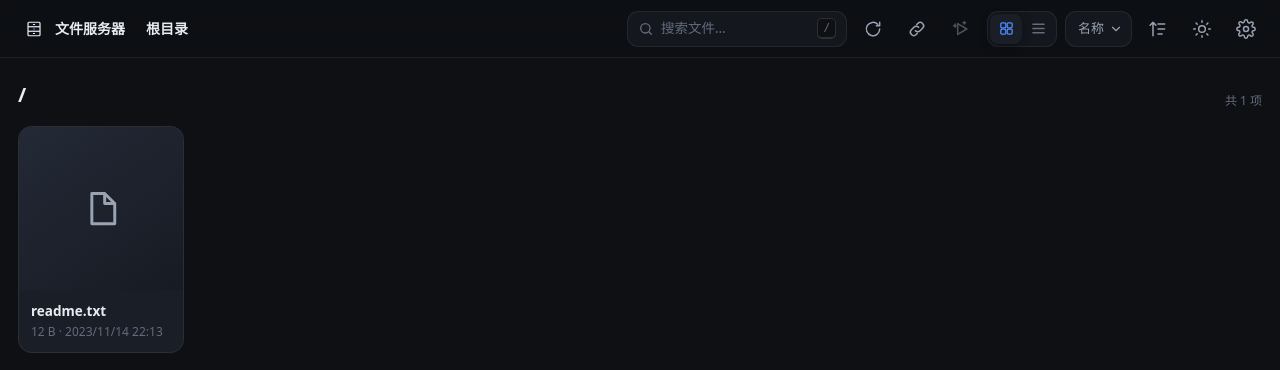
Scenario: BrowsePage › 搜索 250ms 防抖后请求 /api/search 并高亮命中
Check: the element with test id "grid" is shown, box x1=18 y1=126 x2=184 y2=353
Type "mp4" into the field labelled "搜索文件" at (736, 29), box x1=661 y1=18 x2=810 y2=39
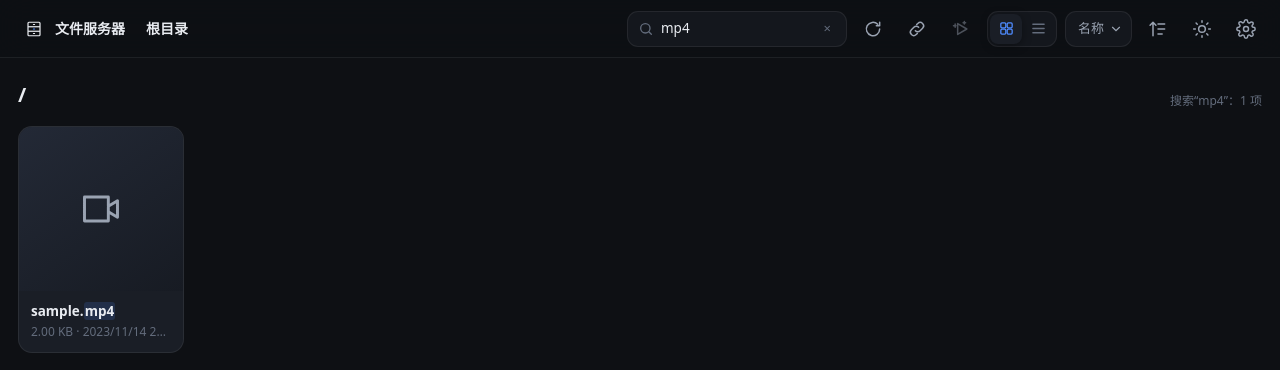
Check: the button "sample.mp4 2.00 KB · 2023/11/14 22:13" is shown, box x1=18 y1=126 x2=184 y2=353
Check: the text "mp4" is shown, box x1=84 y1=302 x2=115 y2=320
